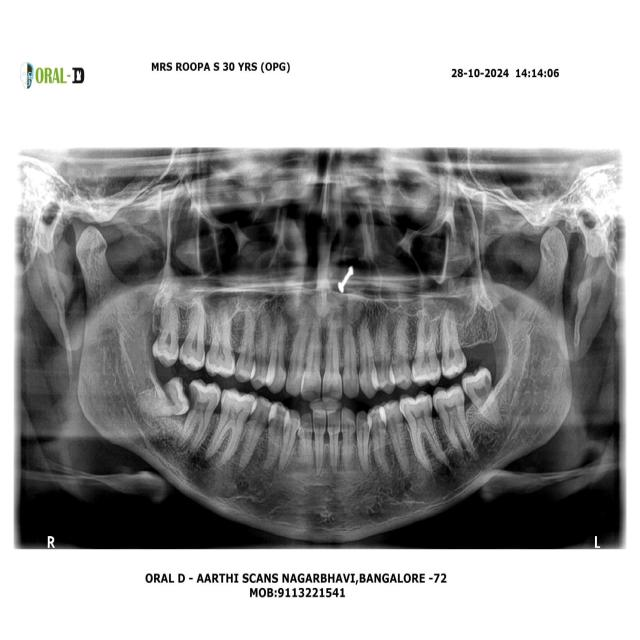Premolars: (382, 398, 410, 475), (367, 404, 389, 477)
